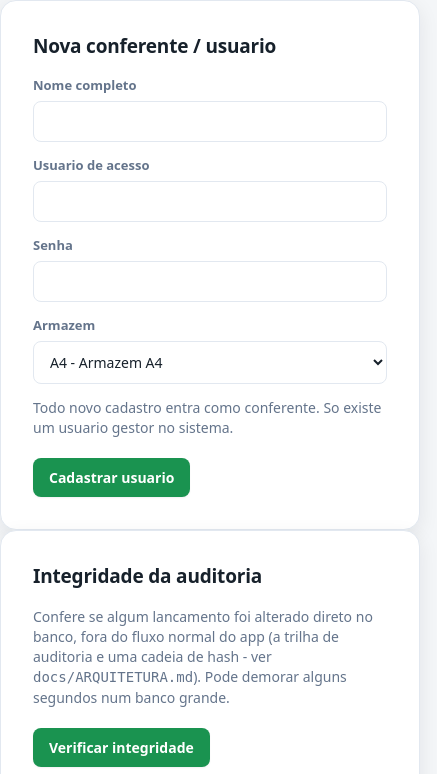
Test case: Usuarios - verificar integridade › mostra cadeia intacta quando o backend retorna null
Click the button "Verificar integridade".
click(121, 748)  # box [33,728,210,767]
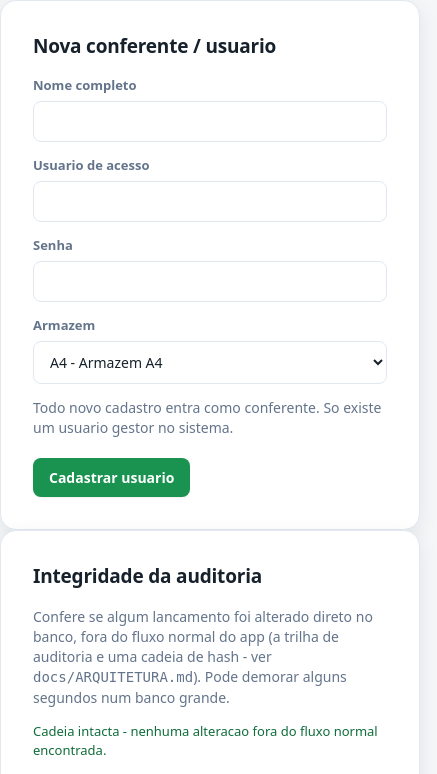
Expected: the text "Cadeia intacta" is shown, [33,722,378,759]
